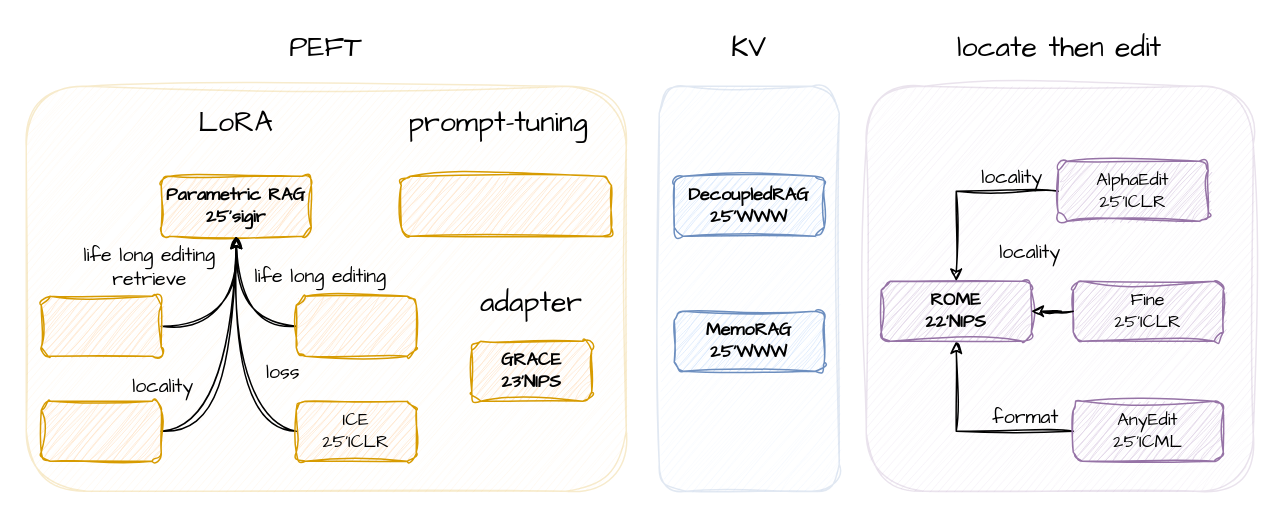
Some shapes in this 1280 by 518 pixel diagram are drawn without their labels. The shapes that lost their labels are listed below. From the top down, each one's centre as x and y in pixels, then its label:
At [505,205]: "User Embedding Model 24'ACL Workshop".
At [100,325]: "PER-PCS 24'EMNLP".
At [355,325]: "PRUNE 25'ICLR".
At [100,430]: "KDE 25'ACL".
